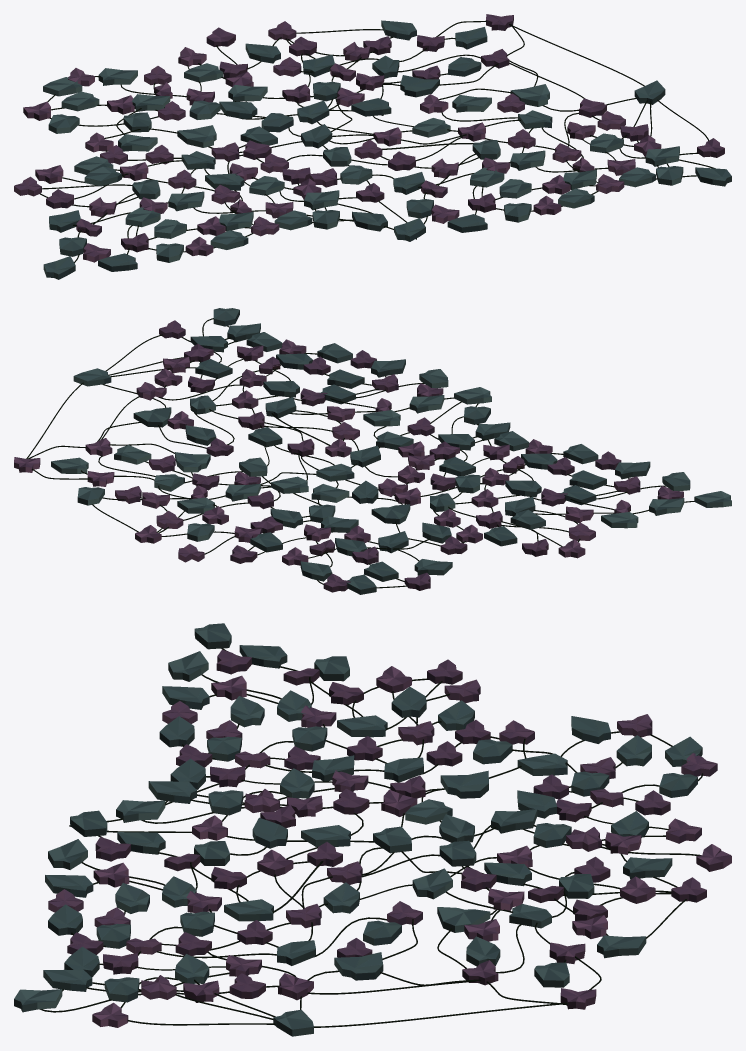
The model's file is LIANE3.obj.
The picture shows the model from 3 angles, top to bottom: view 1: azimuth 30°, elevation 25°; view 2: azimuth 150°, elevation 25°; view 3: azimuth 270°, elevation 25°; orthographic projection. The views are drawn at different scales.
Parts seen in each view (by area): view 1: LIANE3; view 2: LIANE3; view 3: LIANE3.
Boxes of the visible parts, x1,y1,x2,y2 form: LIANE3: [14, 14, 731, 279]; LIANE3: [14, 308, 731, 594]; LIANE3: [14, 623, 731, 1036].
Bounding box in the file's own units: 1.26 × 0.0267 × 0.9467.
3 materials, 2 textured.
